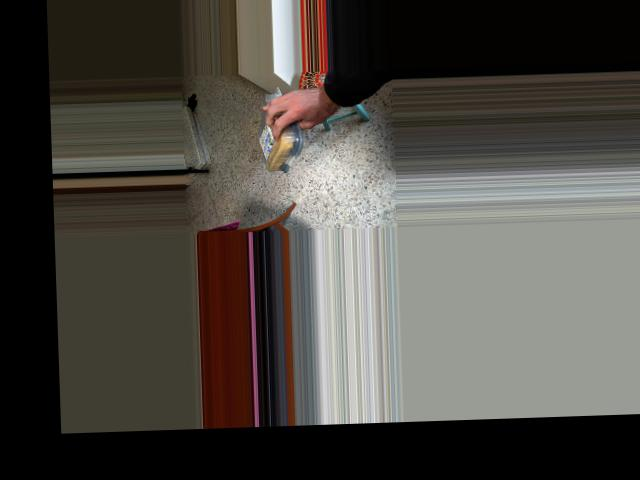cheese: (258, 98, 297, 173)
